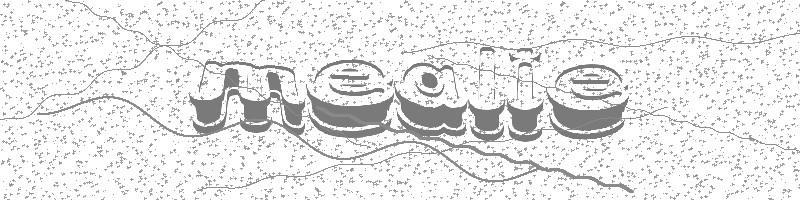a: (394, 58, 474, 148)
e: (543, 59, 633, 149), (304, 52, 395, 140)
i: (508, 36, 548, 144)
l: (468, 42, 507, 145)
m: (179, 52, 308, 145)
